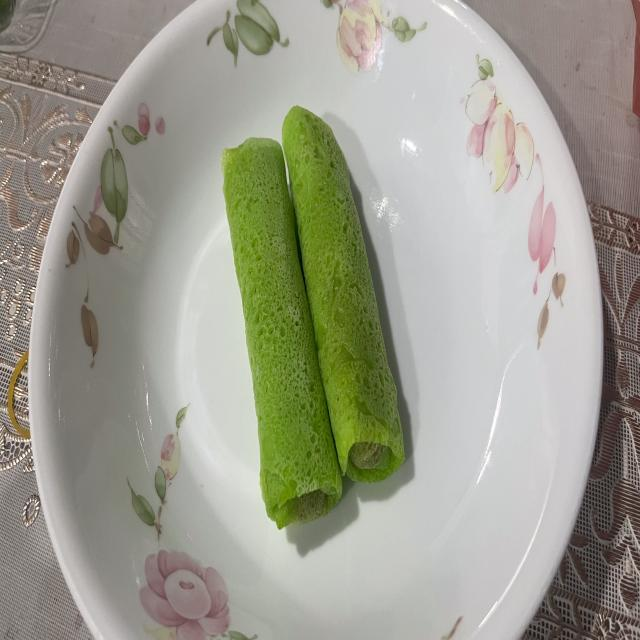Kuih-Ketayap: (221, 138, 341, 529), (282, 107, 404, 482)
